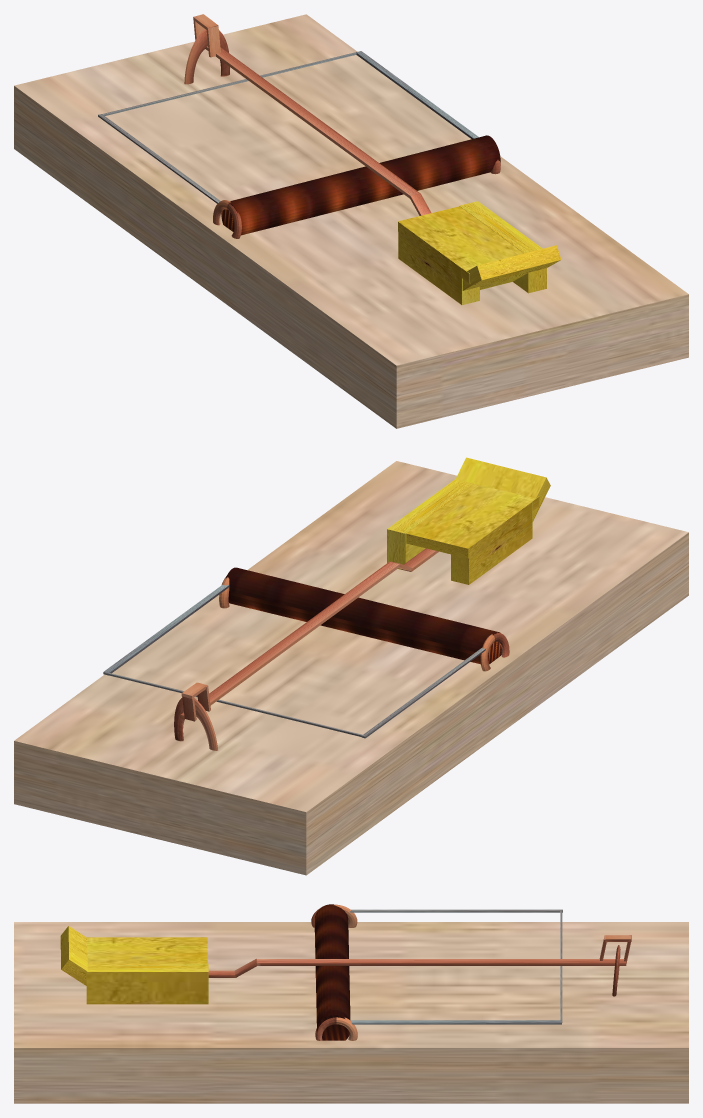
Rendered from mousetrp.fbx.
3 renders of one model, top to bottom at view 1: azimuth 30°, elevation 25°; view 2: azimuth 150°, elevation 25°; view 3: azimuth 270°, elevation 25°, orthographic. The views are drawn at different scales.
Visible parts, largest first — view 1: Cube, Cylinder, Cube.004, Cube.005, Cube.002, Cube.001, Cube.003, Cube.011, Torus, Cube.013, Cube.012; view 2: Cube, Cylinder, Cube.004, Cube.002, Cube.005, Cube.001, Cube.003, Cube.011, Torus, Cube.013, Cube.012; view 3: Cube, Cube.003, Cylinder, Cube.004, Cube.005, Cube.001, Cube.011, Cube.012, Torus.006.
Boxes of the visible parts, x1,y1,x2,y2 form: Cube: [14, 14, 688, 428]; Cylinder: [221, 135, 500, 235]; Cube.004: [398, 206, 523, 283]; Cube.005: [205, 46, 420, 198]; Cube.002: [398, 222, 479, 304]; Cube.001: [462, 245, 561, 290]; Cube.003: [459, 201, 546, 293]; Cube.011: [356, 51, 478, 138]; Torus: [184, 29, 229, 84]; Cube.013: [100, 52, 356, 115]; Cube.012: [98, 114, 220, 203]; Cube: [14, 461, 688, 875]; Cylinder: [226, 567, 501, 664]; Cube.004: [406, 484, 539, 558]; Cube.002: [451, 502, 532, 584]; Cube.005: [180, 561, 399, 718]; Cube.001: [456, 457, 550, 521]; Cube.003: [387, 479, 473, 569]; Cube.011: [103, 584, 229, 675]; Torus: [174, 698, 217, 750]; Cube.013: [105, 673, 364, 736]; Cube.012: [361, 648, 486, 738]; Cube: [14, 922, 688, 1103]; Cube.003: [86, 963, 208, 1004]; Cylinder: [314, 904, 350, 1040]; Cube.004: [86, 937, 207, 963]; Cube.005: [257, 959, 626, 965]; Cube.001: [60, 926, 87, 985]; Cube.011: [350, 1020, 561, 1024]; Cube.012: [350, 909, 562, 912]; Torus.006: [315, 1017, 357, 1040].
Bounding box in the file's own units: 45.42 × 17.85 × 103.
18 materials, 18 textured.
